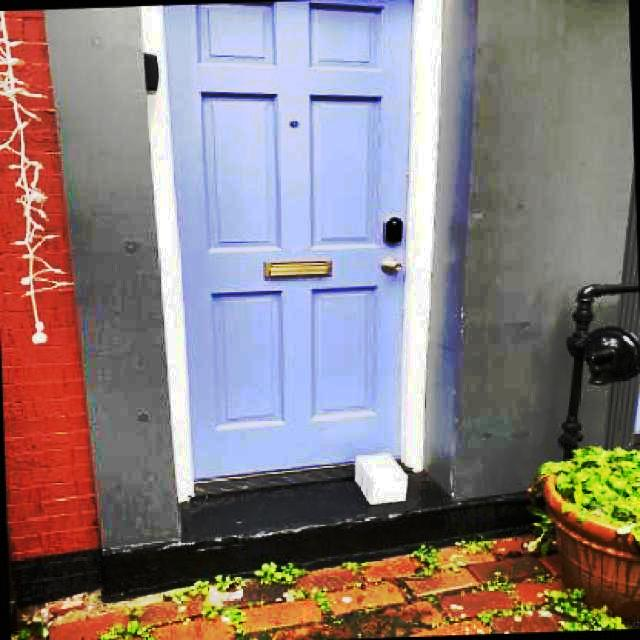Box: (347, 451, 413, 507)
